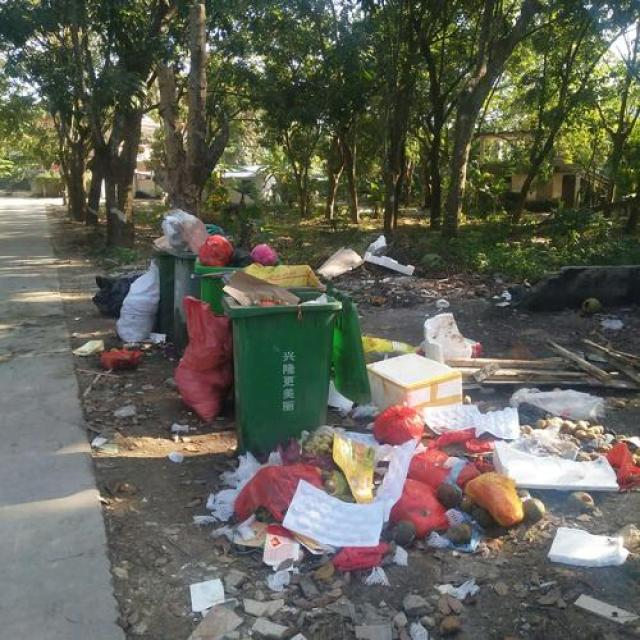garbage: (188, 315, 639, 612), (70, 258, 168, 368), (172, 291, 234, 424)
overflow: (225, 266, 368, 453), (154, 208, 197, 350)
